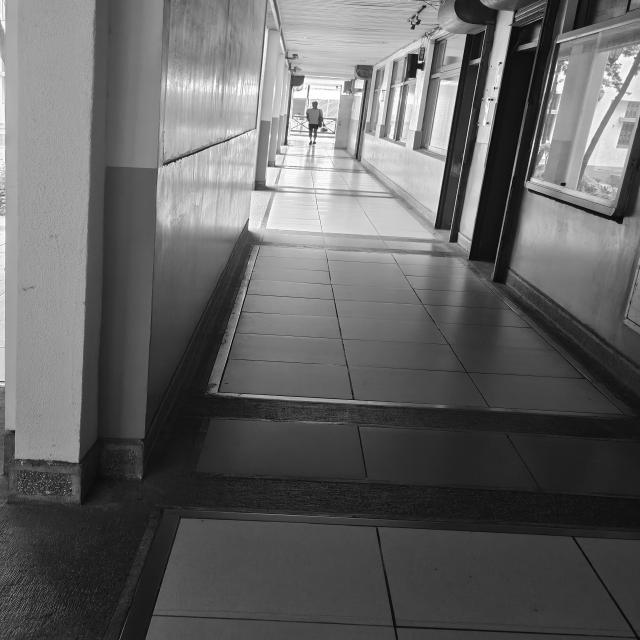Road-Object: (2, 140, 640, 640)
